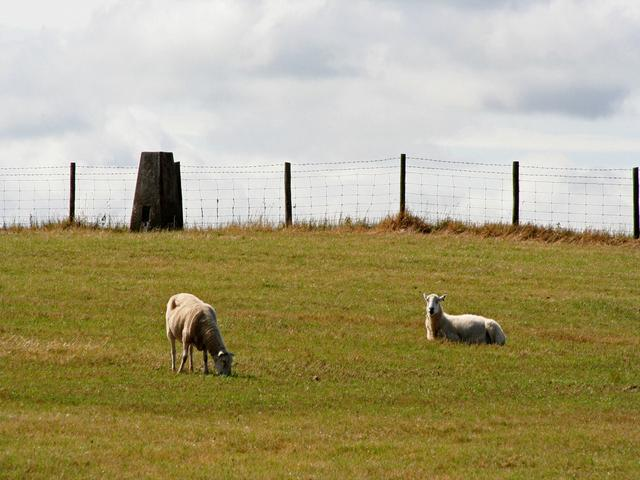sheep: (124, 259, 265, 397), (406, 287, 517, 356)
